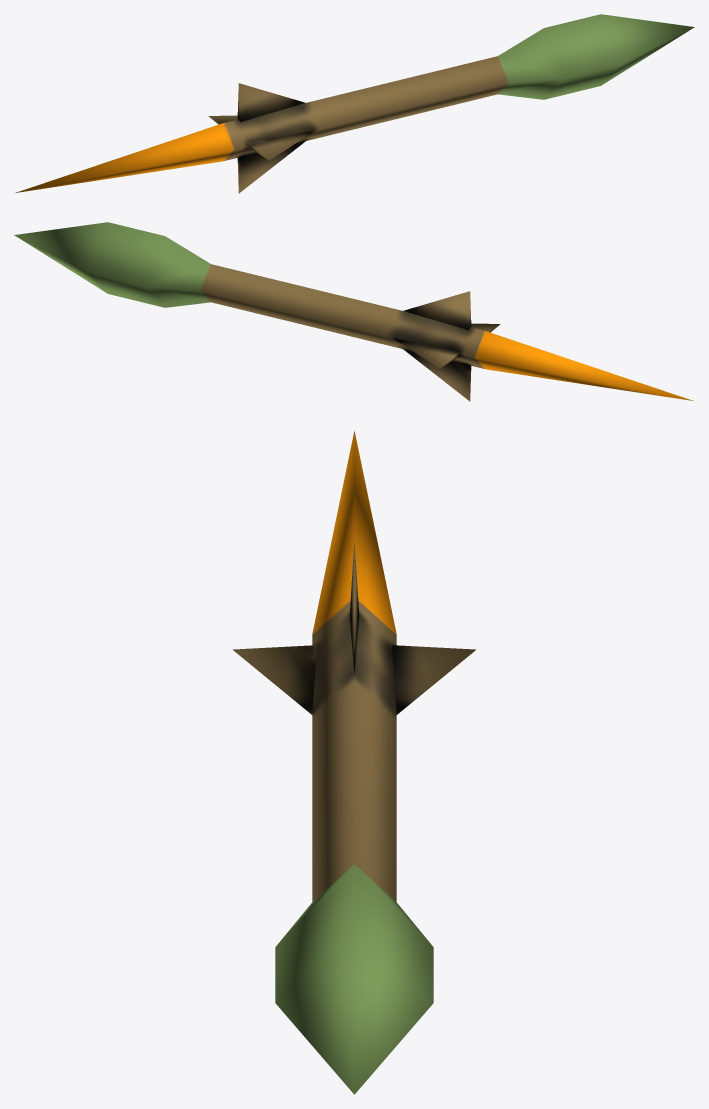
File: rocket.glb
3 renders of one model, top to bottom at view 1: azimuth 30°, elevation 25°; view 2: azimuth 150°, elevation 25°; view 3: azimuth 270°, elevation 25°, orthographic. The views are drawn at different scales.
Visible parts, largest first — view 1: Missile, Fin; view 2: Missile, Fin; view 3: Missile, Fin.
Part boxes in pixels (bbox=[...]): Missile: bbox=[15, 14, 694, 192]; Fin: bbox=[208, 83, 315, 193]; Missile: bbox=[14, 222, 693, 400]; Fin: bbox=[393, 291, 500, 401]; Missile: bbox=[275, 430, 433, 1094]; Fin: bbox=[233, 539, 475, 714].
Bounding box in the file's own units: 2.45 × 0.3802 × 0.3802.
Materials: 1 (1 with a texture image).
